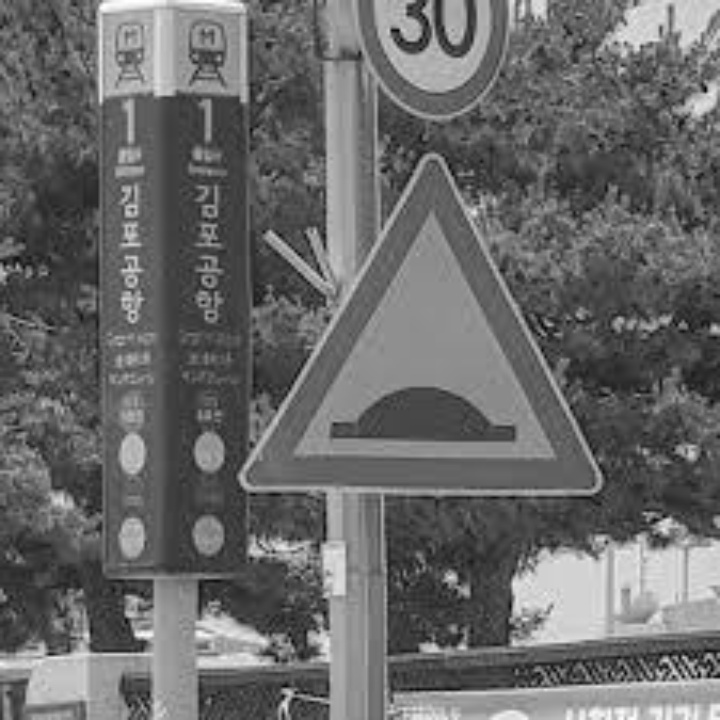bump: (317, 359, 546, 455)
